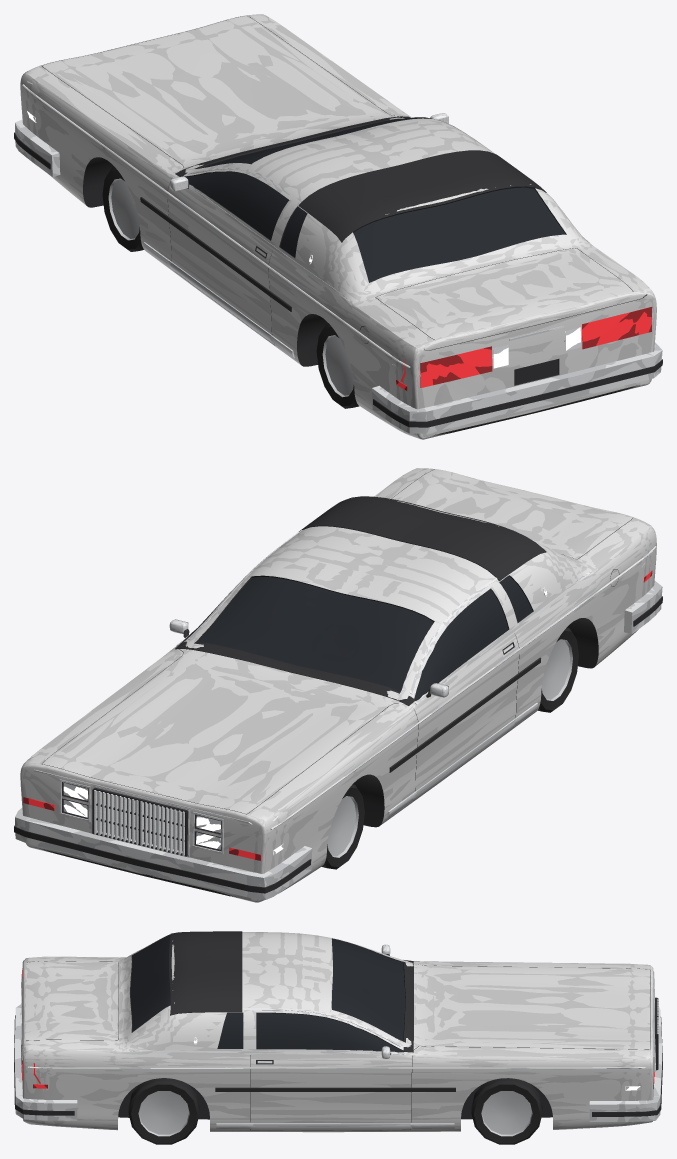
Rendered from road_lowrider_coupe.glb.
3 views of the same model, one above another, from view 1: azimuth 30°, elevation 25°; view 2: azimuth 150°, elevation 25°; view 3: azimuth 270°, elevation 25° (orthographic). The views are drawn at different scales.
Parts seen in each view (by area): view 1: road_lowrider_coupe, road_lowrider_coupe_far; view 2: road_lowrider_coupe, road_lowrider_coupe_far; view 3: road_lowrider_coupe, road_lowrider_coupe_far.
Boxes of the visible parts, x1=… form: road_lowrider_coupe: x1=14, y1=14, x2=662, y2=439; road_lowrider_coupe_far: x1=14, y1=14, x2=662, y2=439; road_lowrider_coupe: x1=14, y1=468, x2=662, y2=902; road_lowrider_coupe_far: x1=14, y1=468, x2=662, y2=902; road_lowrider_coupe: x1=14, y1=931, x2=662, y2=1132; road_lowrider_coupe_far: x1=14, y1=931, x2=662, y2=1144.
Bounding box in the file's own units: 2.03 × 1.25 × 5.15.
